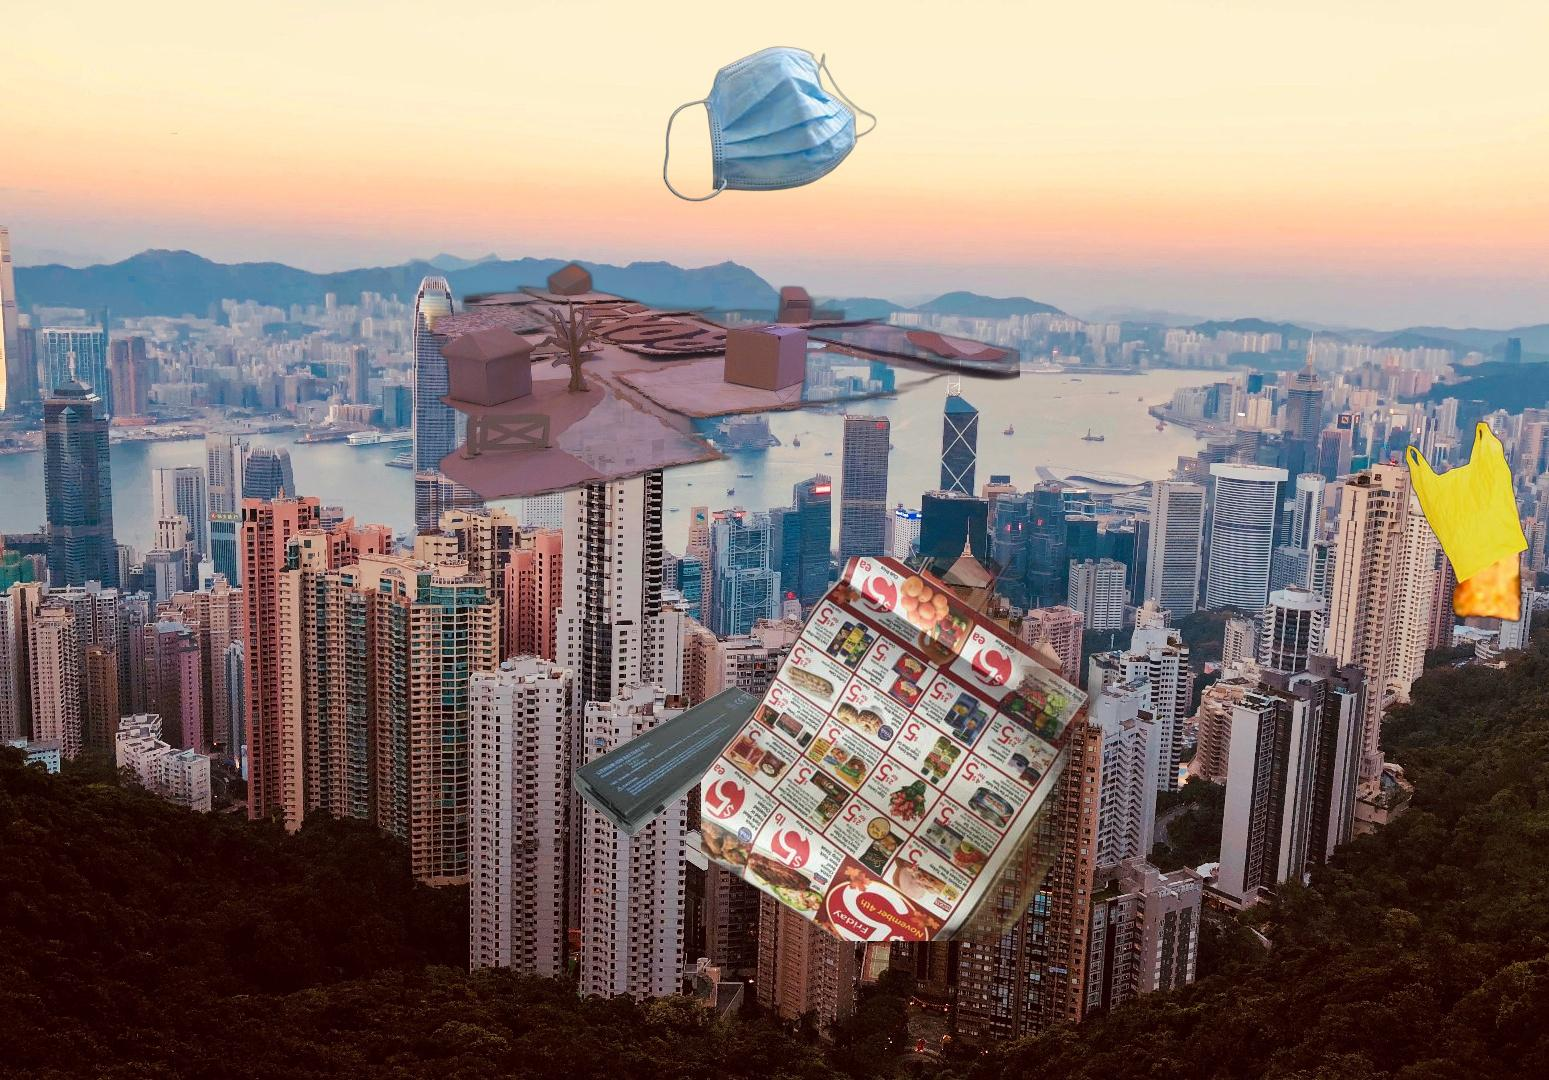battery: (570, 680, 779, 839)
paper: (702, 556, 1214, 941)
plastic-bag: (1403, 419, 1531, 627)
trash: (662, 44, 878, 204)
trashbox-cardboard: (300, 255, 1021, 573)
